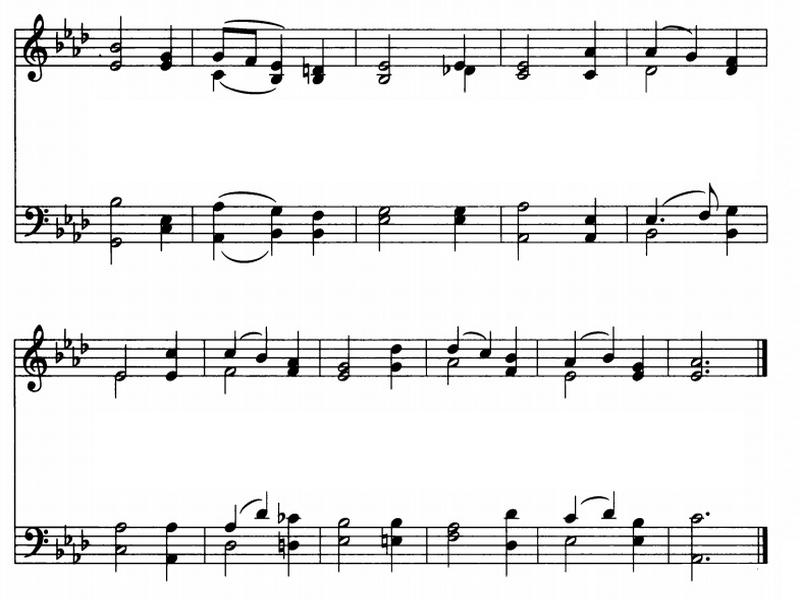B: (507, 5, 549, 85), (504, 185, 544, 265), (106, 501, 145, 569), (107, 188, 136, 263), (437, 507, 463, 579), (106, 10, 130, 77), (677, 328, 706, 382), (330, 323, 356, 383), (379, 19, 401, 89), (682, 508, 703, 578), (545, 534, 580, 576), (107, 340, 141, 383), (376, 196, 397, 255), (334, 514, 354, 571), (214, 538, 247, 572), (642, 60, 663, 108), (207, 363, 243, 391), (440, 356, 463, 395), (554, 367, 580, 399), (110, 374, 133, 398), (639, 227, 657, 256)
Bem: (51, 218, 70, 267), (72, 525, 96, 555), (266, 502, 289, 531), (431, 52, 454, 75), (59, 328, 74, 353), (67, 40, 84, 59), (49, 31, 64, 52), (75, 20, 88, 44), (74, 334, 88, 355), (64, 548, 82, 564), (60, 17, 73, 39), (77, 211, 88, 235), (52, 541, 64, 559), (67, 348, 77, 368), (59, 204, 72, 219), (67, 224, 78, 241), (63, 521, 71, 543), (57, 343, 64, 360)
C: (695, 177, 725, 221)
CF: (23, 194, 54, 244), (17, 523, 47, 570)
CS: (14, 310, 51, 401), (18, 4, 50, 85)
N: (574, 160, 617, 256), (301, 198, 337, 257), (439, 194, 469, 259), (380, 336, 412, 396), (156, 325, 186, 387), (262, 28, 291, 89), (279, 328, 314, 378), (150, 19, 181, 75), (157, 520, 184, 584), (582, 24, 604, 99), (284, 511, 307, 576), (150, 206, 181, 254), (719, 197, 741, 264), (497, 508, 518, 578), (267, 193, 288, 257), (247, 315, 274, 364), (218, 304, 240, 361), (207, 193, 225, 261), (629, 516, 647, 583), (433, 322, 470, 354), (600, 314, 624, 361), (390, 509, 407, 575), (503, 318, 520, 382), (626, 334, 648, 380), (726, 24, 742, 79), (217, 504, 245, 535), (314, 35, 331, 85), (564, 325, 584, 367), (599, 485, 621, 523), (679, 21, 696, 64), (558, 492, 580, 525), (464, 64, 482, 104), (648, 13, 666, 52), (206, 64, 228, 94), (478, 328, 500, 356), (641, 194, 659, 227), (454, 27, 467, 72), (251, 490, 267, 520)
P: (701, 546, 717, 564), (699, 508, 715, 523), (702, 367, 714, 378), (658, 213, 670, 224), (701, 362, 714, 369)
SOS: (374, 528, 392, 556), (270, 534, 290, 559), (297, 55, 313, 85)
